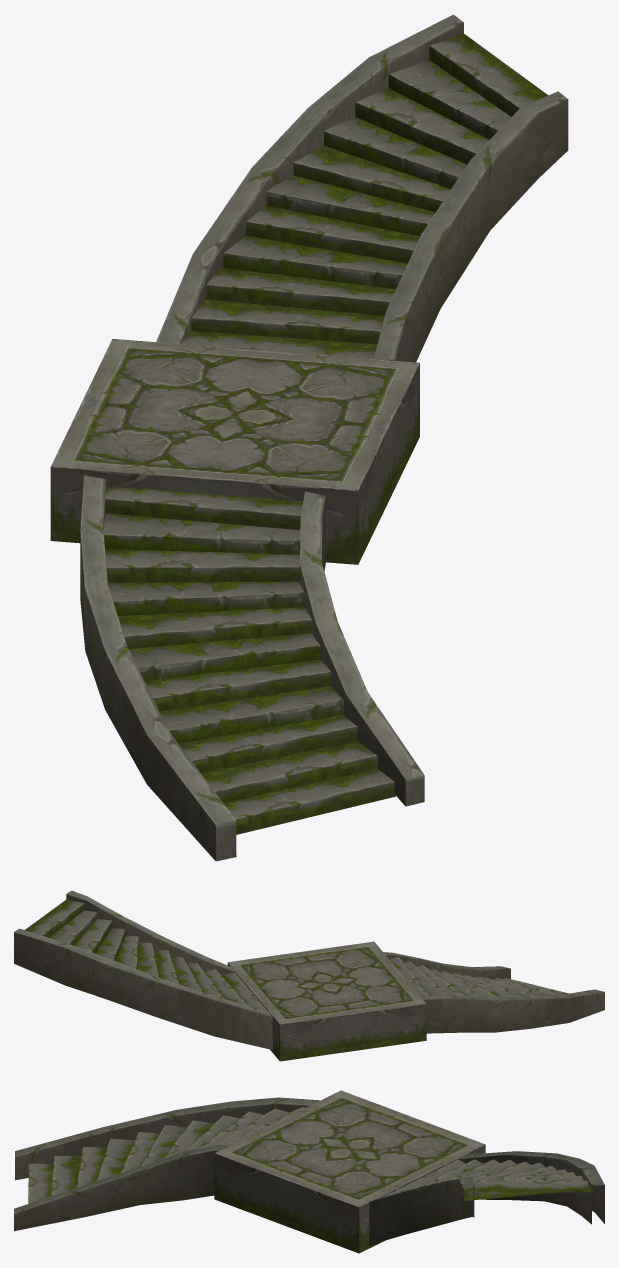
Rendered from common_yewai_xuanfulouti.FBX.
3 renders of one model, top to bottom at view 1: azimuth 30°, elevation 25°; view 2: azimuth 150°, elevation 25°; view 3: azimuth 270°, elevation 25°, orthographic. The views are drawn at different scales.
Visible parts, largest first — view 1: common_yewai_xuanfulouti; view 2: common_yewai_xuanfulouti; view 3: common_yewai_xuanfulouti.
Part boxes in pixels (x1,y1,x2,y2): common_yewai_xuanfulouti: (50, 14, 568, 861); common_yewai_xuanfulouti: (14, 890, 604, 1061); common_yewai_xuanfulouti: (14, 1090, 604, 1253).
Bounding box in the file's own units: 25.26 × 11.18 × 29.16.
